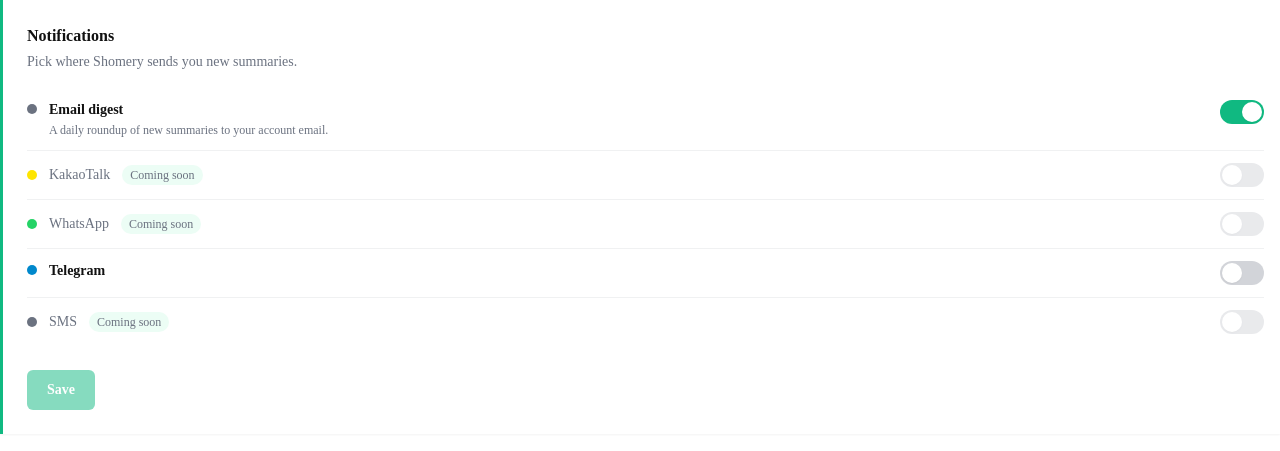
NotificationsEditor › surfaces an inline error when setDoc rejects
The image size is (1280, 451).
Click the switch named "Disable Email digest" at (1242, 112), box [1220, 100, 1264, 124]
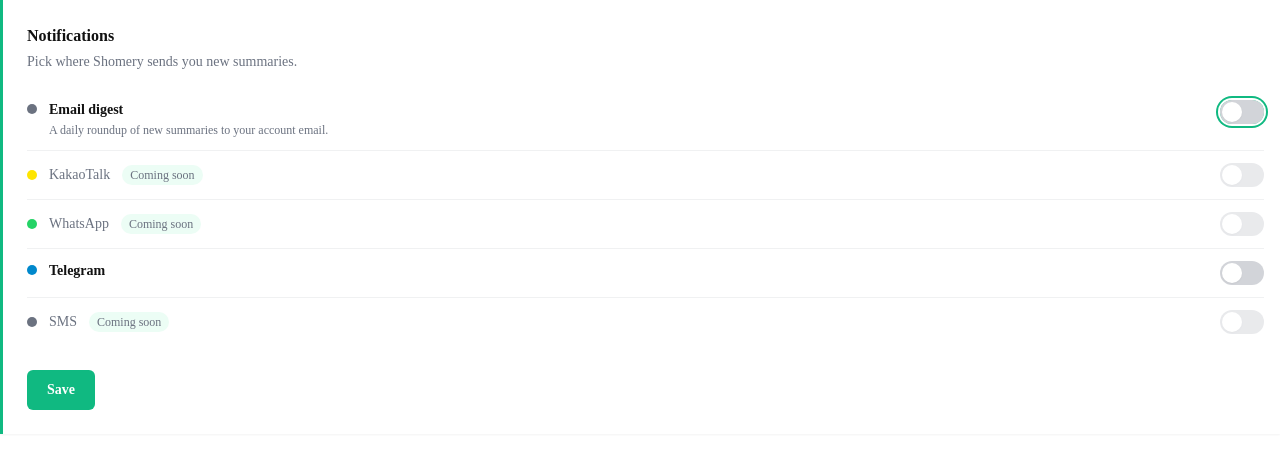
Click the button "Save" at (61, 390), box [27, 370, 95, 410]
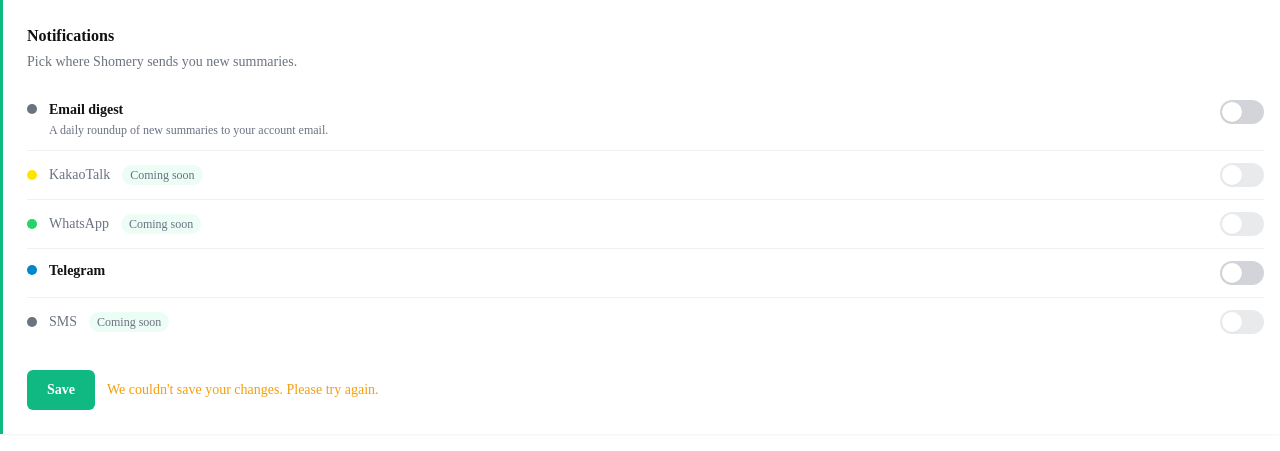
Expected: the message reads "We couldn't save your changes. Please try again.", [107, 382, 379, 397]
